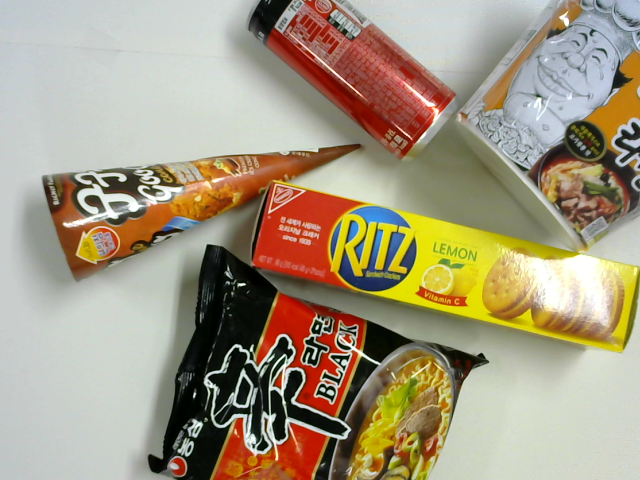Coca_Cola_Zero_Can_250ml: (249, 1, 460, 161)
GooGoo_Cone_CVS: (41, 144, 365, 277)
Hejangchan: (459, 1, 638, 248)
Ritz_Remon_96g: (249, 184, 640, 356)
Sinramen_Black: (161, 243, 470, 480)
